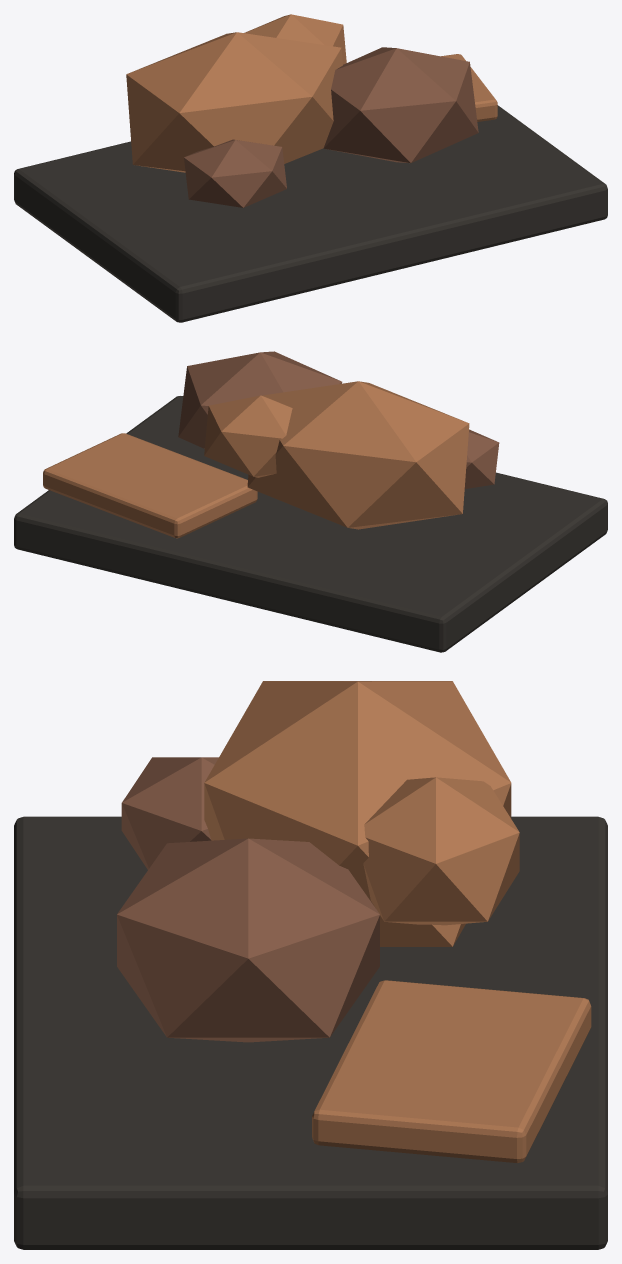
File: iron.glb
The picture shows the model from 3 angles, top to bottom: view 1: azimuth 30°, elevation 25°; view 2: azimuth 150°, elevation 25°; view 3: azimuth 270°, elevation 25°; orthographic projection. The views are drawn at different scales.
Parts seen in each view (by area): view 1: iron-black-pallet, iron-lump-0, iron-lump-1, iron-lump-3, iron-lump-2, iron-plate; view 2: iron-black-pallet, iron-lump-0, iron-plate, iron-lump-1, iron-lump-2, iron-lump-3; view 3: iron-black-pallet, iron-lump-1, iron-lump-0, iron-plate, iron-lump-2, iron-lump-3.
Boxes of the visible parts, x1,y1,x2,y2 form: iron-black-pallet: (14,105,607,322); iron-lump-0: (126,32,342,172); iron-lump-1: (323,47,478,163); iron-lump-3: (184,139,286,207); iron-lump-2: (244,14,346,64); iron-plate: (441,54,497,121); iron-black-pallet: (14,396,607,652); iron-lump-0: (247,381,469,529); iron-plate: (43,433,257,538); iron-lump-1: (178,351,342,448); iron-lump-2: (204,395,292,477); iron-lump-3: (464,429,499,488); iron-black-pallet: (14,816,607,1249); iron-lump-1: (117,838,379,1042); iron-lump-0: (204,681,511,946); iron-plate: (312,980,591,1163); iron-lump-2: (363,777,519,925); iron-lump-3: (121,757,218,869).
Size of the model in its own units: 1.18 by 0.4834 by 0.7867.
